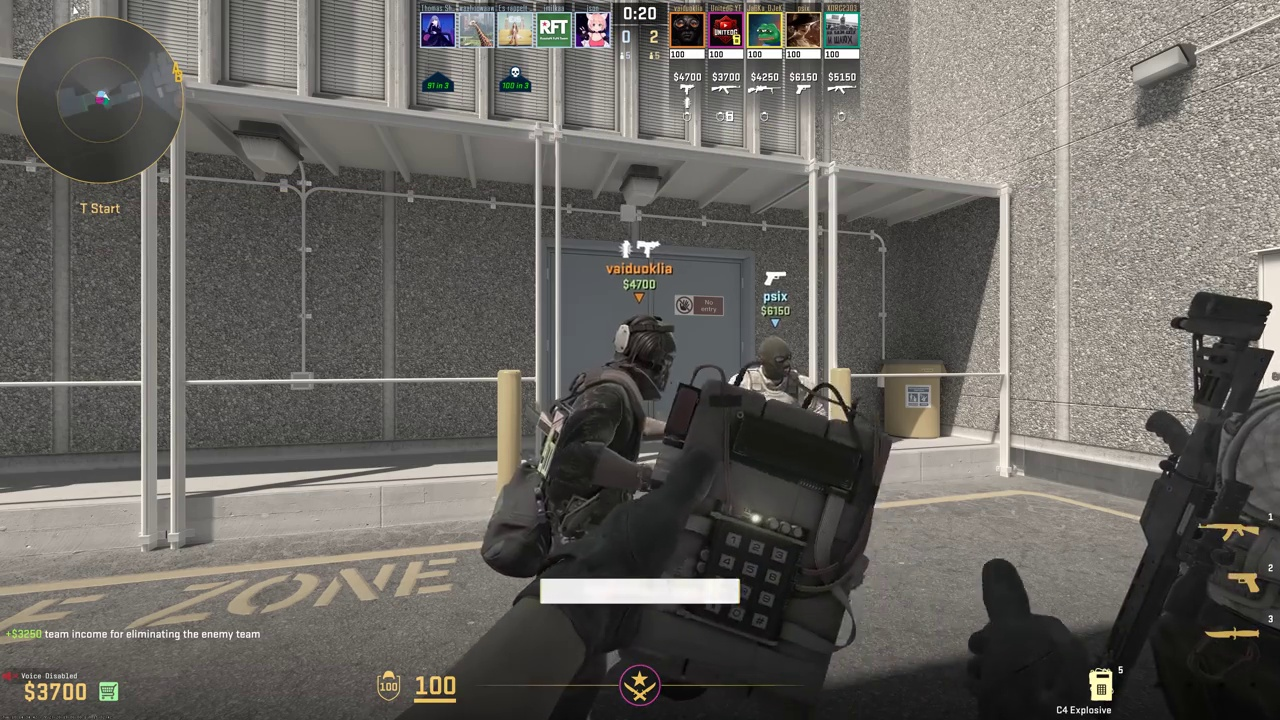Terrorist: (1142, 303, 1280, 720), (510, 316, 672, 559), (727, 339, 818, 404)
